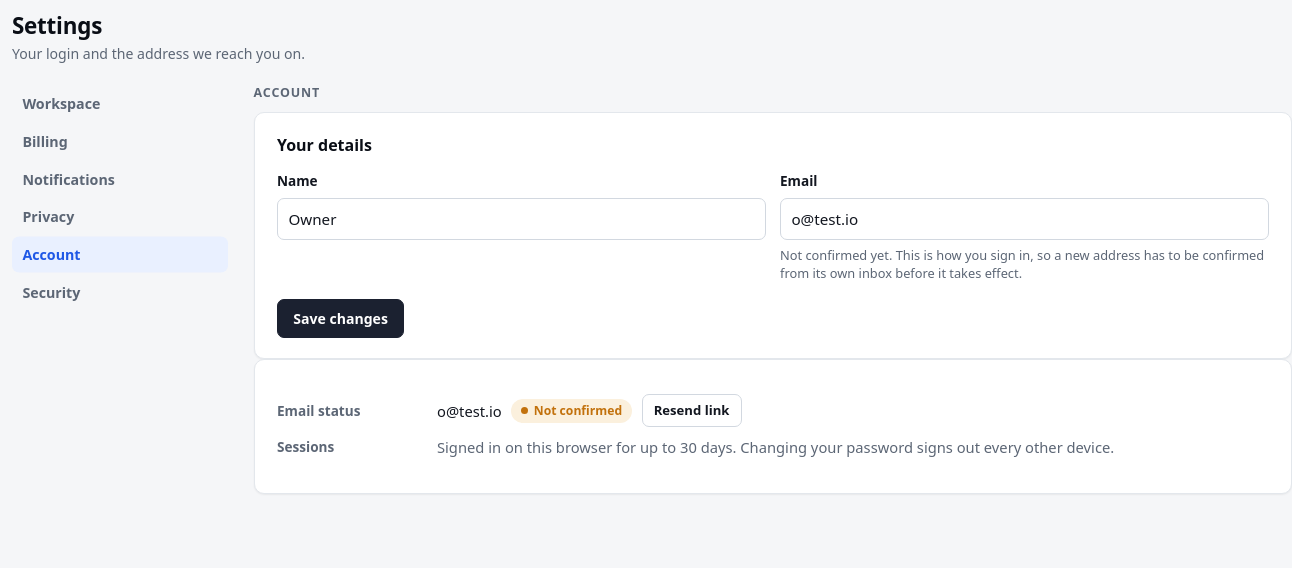
Settings → Account › offers to resend the link while the address is unconfirmed
This screenshot has width=1292, height=568.
Expected: the text "Not confirmed" is shown, [511,399,632,423]
Click the button "Resend link" at (692, 411), box [642,394,742,427]
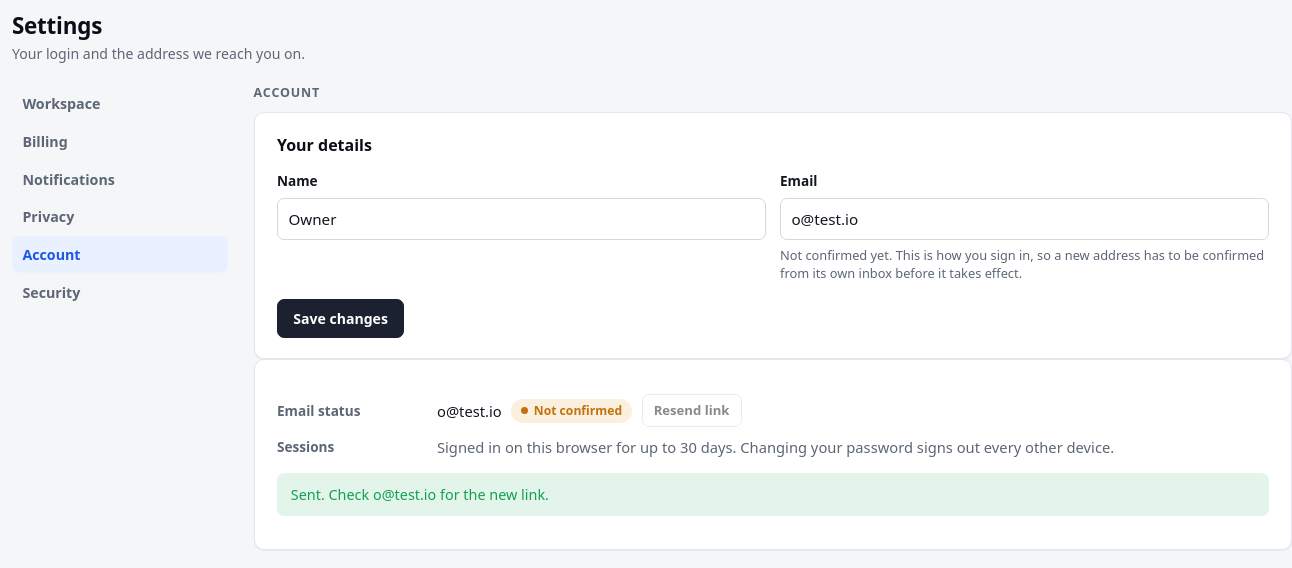
Expected: the text "Sent. Check o@test.io for the new link." is shown, [277,473,1269,516]
